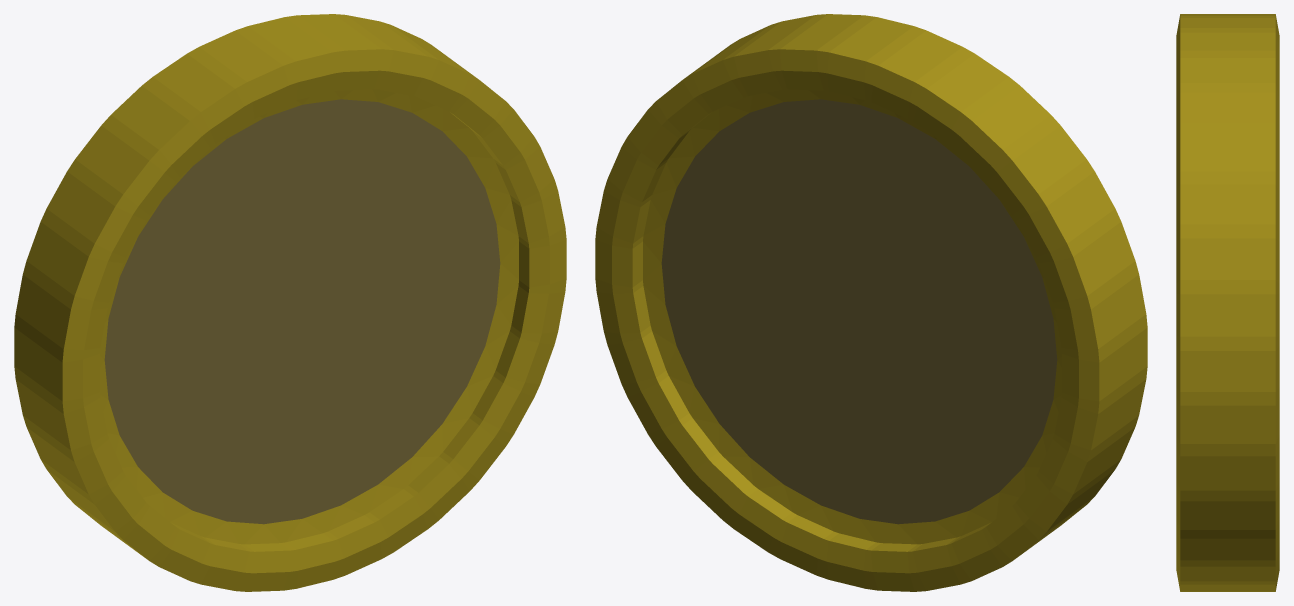
The model's file is dinero.fbx.
The picture shows the model from 3 angles, left to right: view 1: azimuth 30°, elevation 25°; view 2: azimuth 150°, elevation 25°; view 3: azimuth 270°, elevation 25°; orthographic projection.
Parts seen in each view (by area): view 1: dinero; view 2: dinero; view 3: dinero.
Boxes of the visible parts, <box> form: dinero: <box>14,14,566,591</box>; dinero: <box>595,14,1147,591</box>; dinero: <box>1176,14,1279,591</box>.
Size of the model in its own units: 199 by 199 by 35.49.
